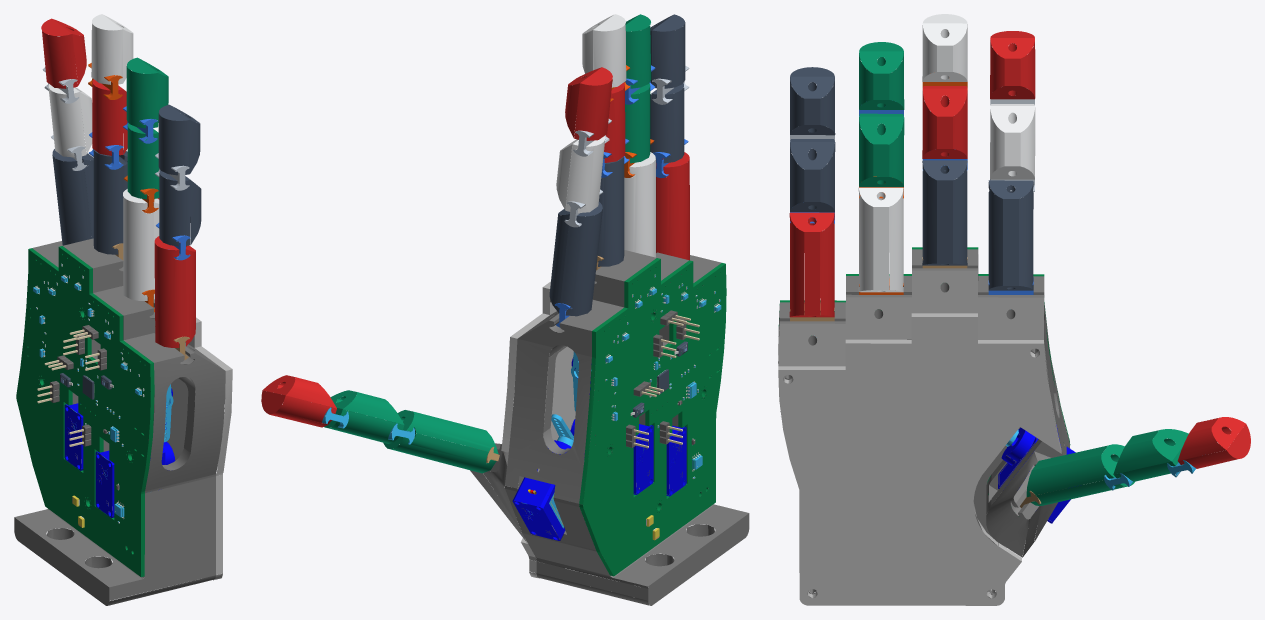
File: HandSplit.glb
The picture shows the model from 3 angles, left to right: view 1: azimuth 30°, elevation 25°; view 2: azimuth 150°, elevation 25°; view 3: azimuth 270°, elevation 25°; orthographic projection. The views are drawn at different scales.
Parts seen in each view (by area): view 1: mesh1757_mesh, mesh1757_mesh_10 (Body A), mesh1757_mesh_10 (Body D), mesh1757_mesh_10 (Body E), mesh1757_mesh_11, mesh1757_mesh_10 (Body B), mesh1757_mesh_10 (Body F), mesh1757_mesh_10 (Body J), mesh1757_mesh_3, mesh1757_mesh_10 (Body N), mesh1757_mesh_10 (Body L), mesh1757_mesh_10 (Body I) (+14 smaller); view 2: mesh1757_mesh, mesh1757_mesh_10 (Body A), mesh1757_mesh_3, mesh1757_mesh_10 (Body B), mesh1757_mesh_10 (Body C), mesh1757_mesh_11, mesh1757_mesh_10 (Body D), mesh1757_mesh_10 (Body E), mesh1757_mesh_10 (Body I), mesh1757_mesh_10 (Body L), mesh1757_mesh_10 (Body P), mesh1757_mesh_10 (Body K) (+11 smaller); view 3: mesh1757_mesh_11, mesh1757_mesh_10 (Body A), mesh1757_mesh_10 (Body B), mesh1757_mesh_10 (Body F), mesh1757_mesh_10 (Body D), mesh1757_mesh_10 (Body E), mesh1757_mesh_10 (Body C), mesh1757_mesh_10 (Body I), mesh1757_mesh_10 (Body H), mesh1757_mesh_10 (Body G), mesh1757_mesh_10 (Body J), mesh1757_mesh_10 (Body L) (+6 smaller).
Boxes of the visible parts, x1,y1,x2,y2 form: mesh1757_mesh: [16, 246, 154, 577]; mesh1757_mesh_10 (Body A): [14, 238, 225, 605]; mesh1757_mesh_10 (Body D): [154, 236, 195, 347]; mesh1757_mesh_10 (Body E): [123, 189, 159, 300]; mesh1757_mesh_11: [151, 293, 232, 580]; mesh1757_mesh_10 (Body B): [52, 149, 93, 245]; mesh1757_mesh_10 (Body F): [93, 149, 127, 254]; mesh1757_mesh_10 (Body J): [159, 170, 201, 246]; mesh1757_mesh_3: [64, 388, 175, 517]; mesh1757_mesh_10 (Body N): [158, 104, 200, 175]; mesh1757_mesh_10 (Body L): [41, 18, 86, 88]; mesh1757_mesh_10 (Body I): [48, 84, 92, 157]; mesh1757_mesh: [579, 258, 726, 576]; mesh1757_mesh_10 (Body A): [470, 250, 749, 605]; mesh1757_mesh_3: [512, 357, 686, 540]; mesh1757_mesh_10 (Body B): [549, 202, 602, 316]; mesh1757_mesh_10 (Body C): [383, 410, 498, 473]; mesh1757_mesh_11: [501, 281, 575, 578]; mesh1757_mesh_10 (Body D): [656, 152, 689, 260]; mesh1757_mesh_10 (Body E): [624, 152, 655, 257]; mesh1757_mesh_10 (Body I): [556, 136, 605, 212]; mesh1757_mesh_10 (Body L): [565, 67, 612, 140]; mesh1757_mesh_10 (Body P): [261, 375, 336, 427]; mesh1757_mesh_10 (Body K): [324, 390, 404, 443]; mesh1757_mesh_11: [778, 313, 1061, 605]; mesh1757_mesh_10 (Body A): [778, 249, 1069, 598]; mesh1757_mesh_10 (Body B): [988, 179, 1033, 290]; mesh1757_mesh_10 (Body F): [922, 160, 967, 265]; mesh1757_mesh_10 (Body D): [789, 212, 834, 317]; mesh1757_mesh_10 (Body E): [858, 187, 903, 292]; mesh1757_mesh_10 (Body C): [1026, 444, 1134, 505]; mesh1757_mesh_10 (Body I): [990, 104, 1035, 179]; mesh1757_mesh_10 (Body H): [922, 86, 967, 158]; mesh1757_mesh_10 (Body G): [859, 113, 904, 186]; mesh1757_mesh_10 (Body J): [790, 139, 835, 212]; mesh1757_mesh_10 (Body L): [990, 31, 1035, 99].
Bounding box in the file's own units: 1.71 × 3.2 × 2.45.
